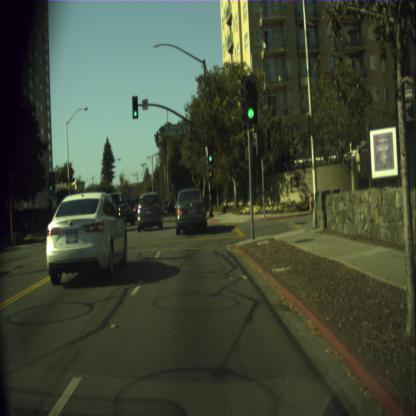Green: (244, 76, 257, 124), (132, 96, 138, 118), (208, 145, 213, 164), (48, 175, 52, 191)
